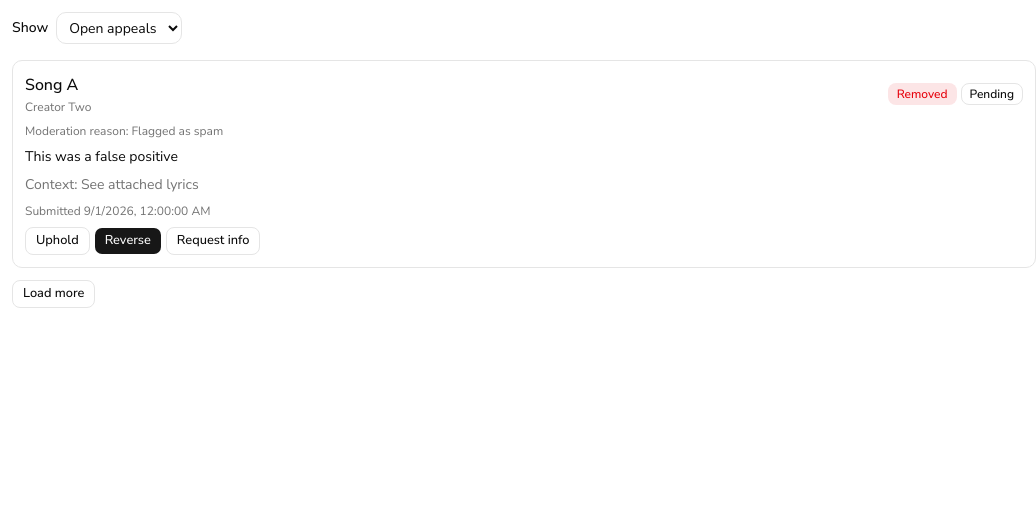
Test: AppealsPanel › pages the queue with Load more (#543)
This screenshot has width=1036, height=505.
Check: the text "Song A" is shown, box [25,74,78,96]
Step 1. Click the button "Load more" → (54, 294), box [12,280,95,308]
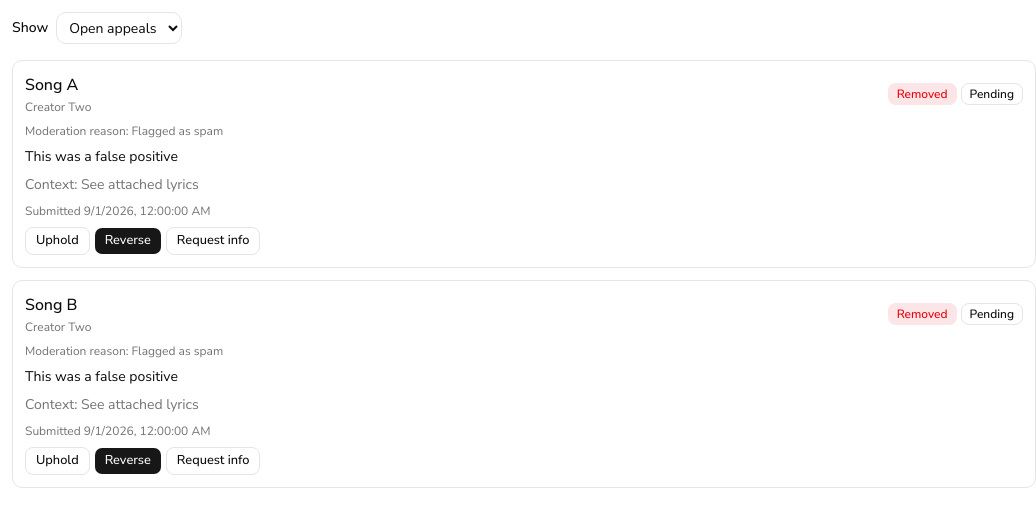
Check: the text "Song A" is shown, box [25,74,78,96]
Check: the text "Song B" is shown, box [25,294,78,316]
Check: the button "Load more" is gone
